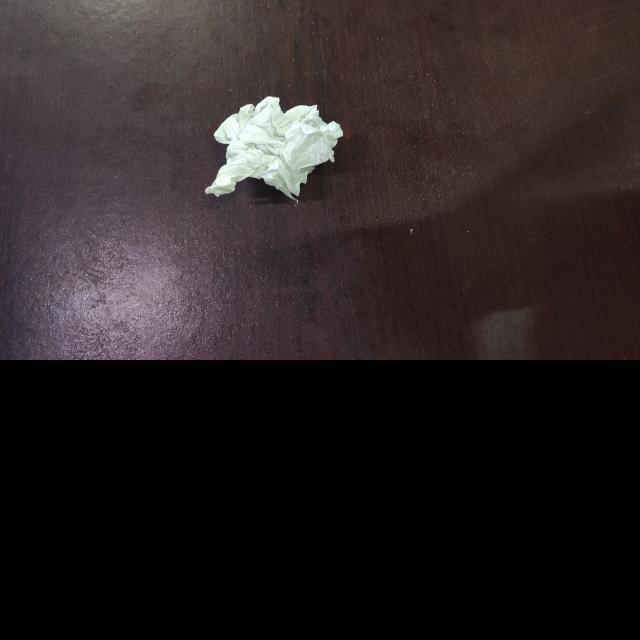kitchen paper: (203, 96, 344, 210)
